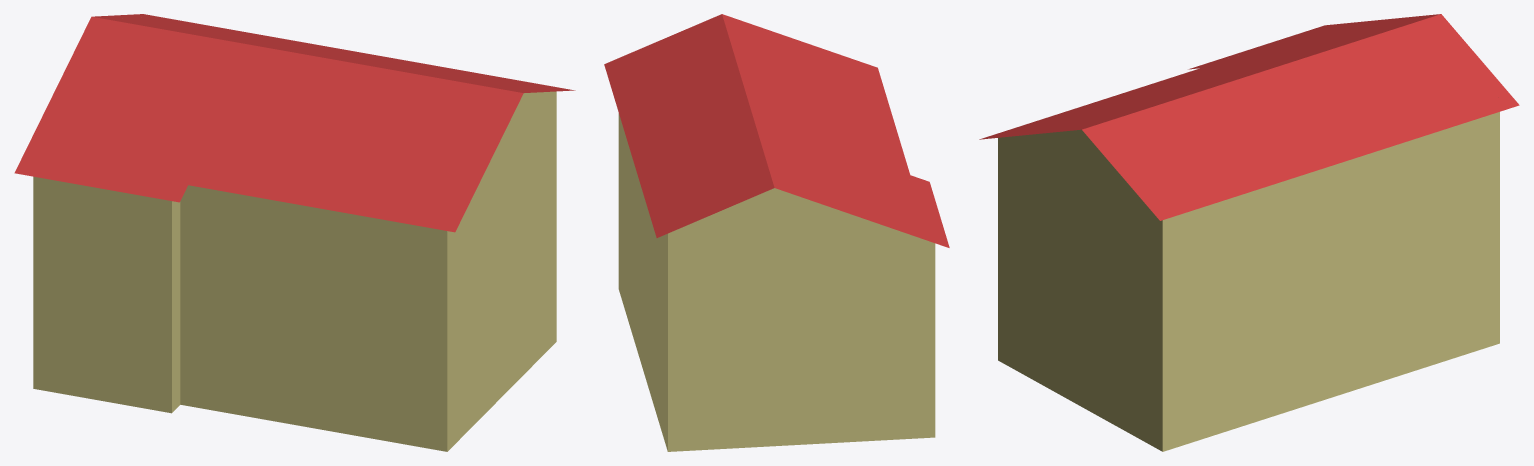
3 renders of one model, left to right at view 1: azimuth 30°, elevation 25°; view 2: azimuth 150°, elevation 25°; view 3: azimuth 270°, elevation 25°, orthographic. The views are drawn at different scales.
Bounding box in the file's own units: 18.87 × 19.29 × 11.28.
